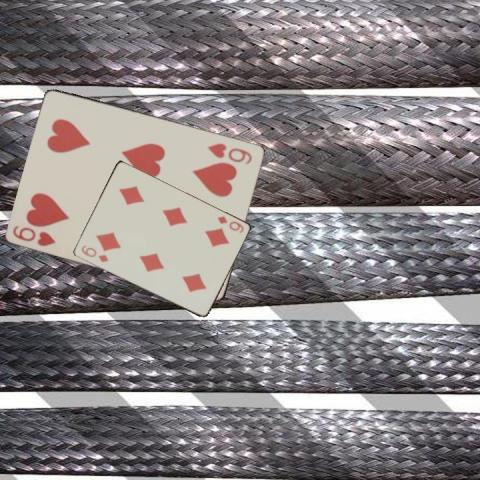6d: (78, 242, 109, 264), (214, 213, 245, 234)
6h: (205, 140, 254, 165), (10, 222, 58, 247)
